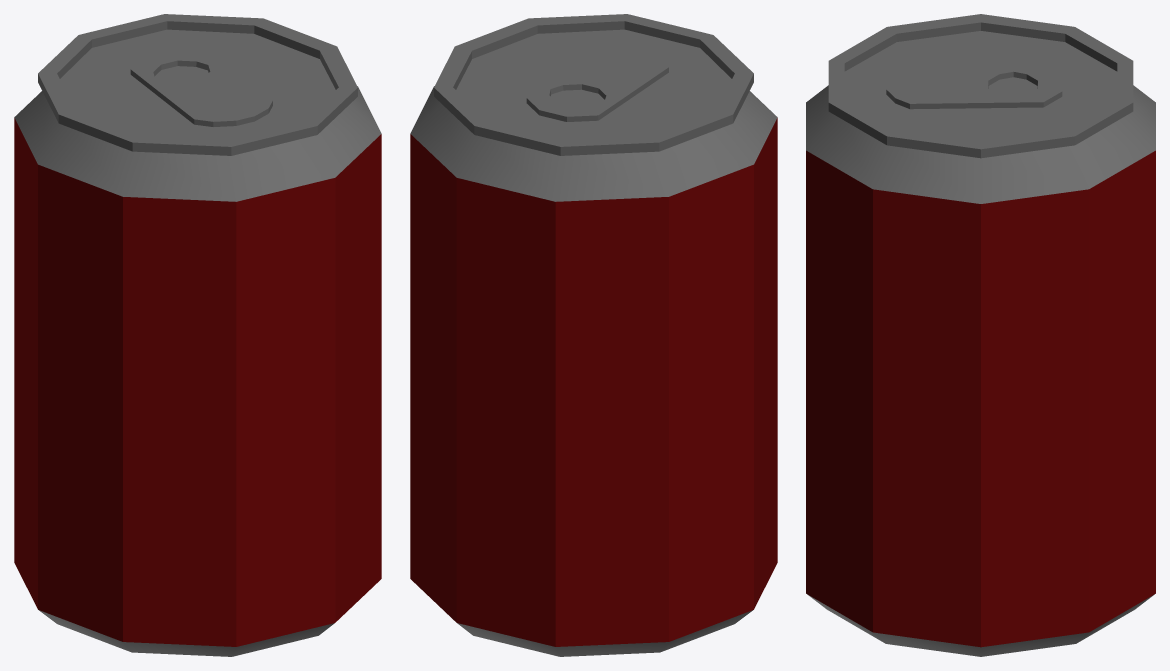
File: CokeCan.fbx
3 views of the same model, side by side, from view 1: azimuth 30°, elevation 25°; view 2: azimuth 150°, elevation 25°; view 3: azimuth 270°, elevation 25° (orthographic).
Parts seen in each view (by area): view 1: pCylinder1, pTorus1; view 2: pCylinder1, pTorus1; view 3: pCylinder1, pTorus1.
Boxes of the visible parts, left/top/right/bottom form: pCylinder1: left=14, top=14, right=381, bottom=656; pTorus1: left=130, top=50, right=272, bottom=126; pCylinder1: left=410, top=14, right=777, bottom=656; pTorus1: left=526, top=45, right=668, bottom=121; pCylinder1: left=806, top=14, right=1155, bottom=656; pTorus1: left=886, top=65, right=1062, bottom=109.
Bounding box in the file's own units: 2 × 3.09 × 1.9.
